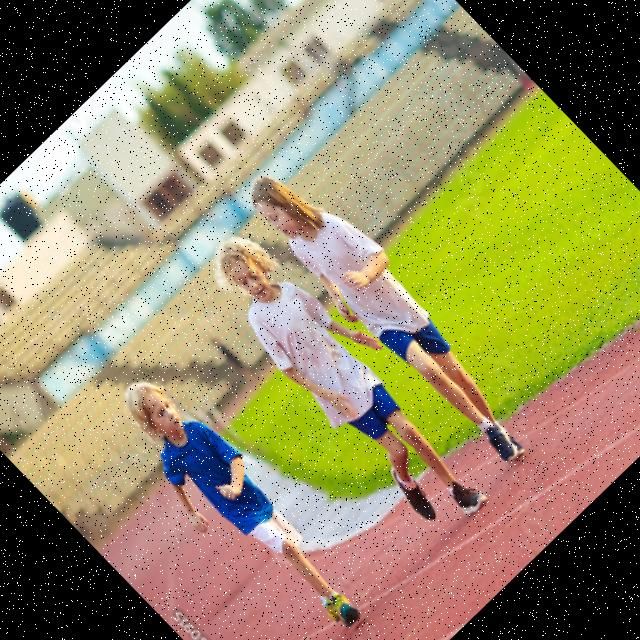Person: (186, 211, 513, 545), (233, 148, 555, 477), (93, 363, 381, 640)
